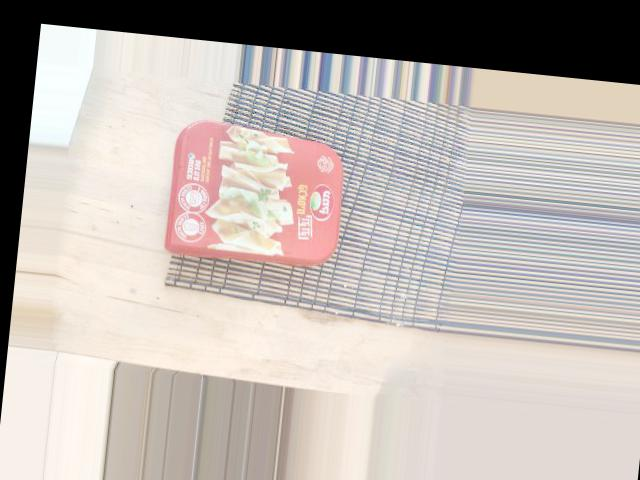cheese: (285, 77, 426, 283)
